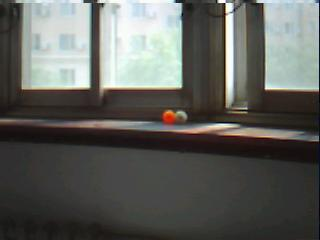oball: (163, 110, 175, 124)
